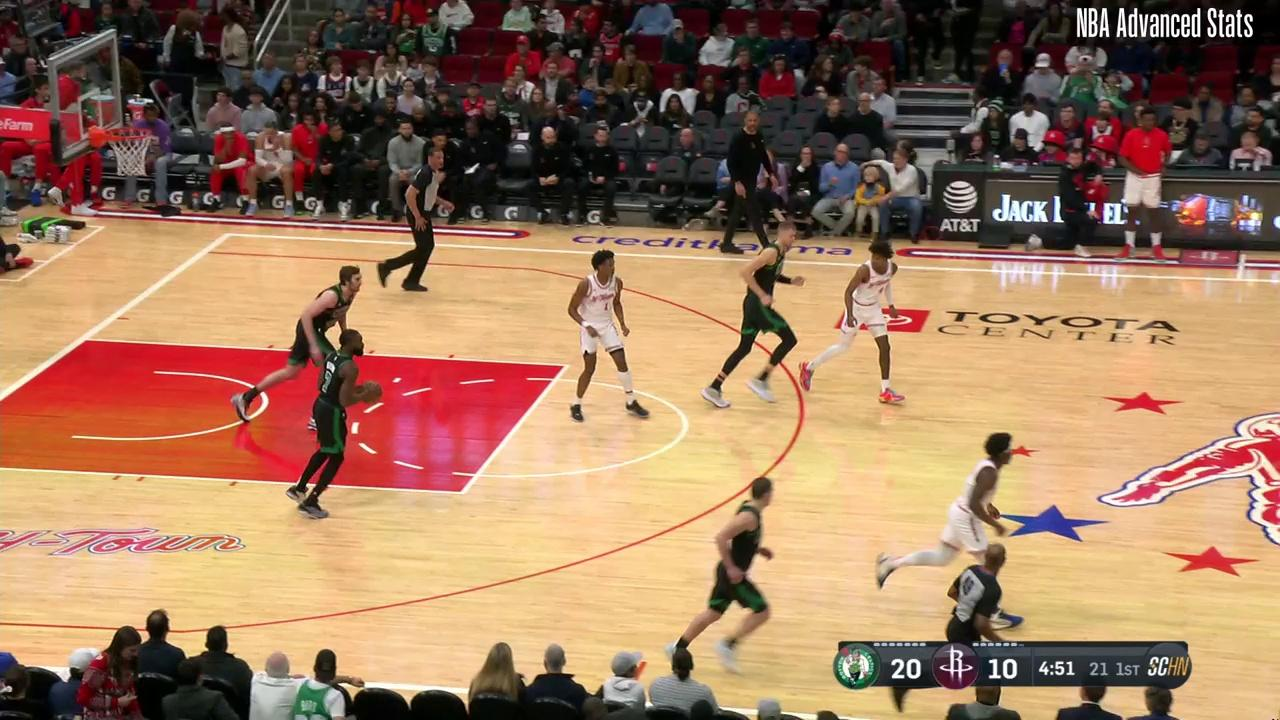3_dx: (197, 245, 220, 261)
b_dx: (218, 226, 241, 244)
free_adx: (554, 358, 577, 375)
free_asx: (453, 484, 472, 501)
free_bdx: (75, 332, 94, 347)
mid_sx: (637, 656, 651, 669)
referee: (379, 144, 455, 294), (944, 544, 1010, 642)
team: (670, 476, 773, 667), (242, 268, 363, 415), (299, 335, 383, 519), (725, 220, 797, 405)
team1: (881, 434, 1024, 629), (800, 235, 907, 403), (569, 250, 649, 422)
timer: (1033, 654, 1078, 684)
